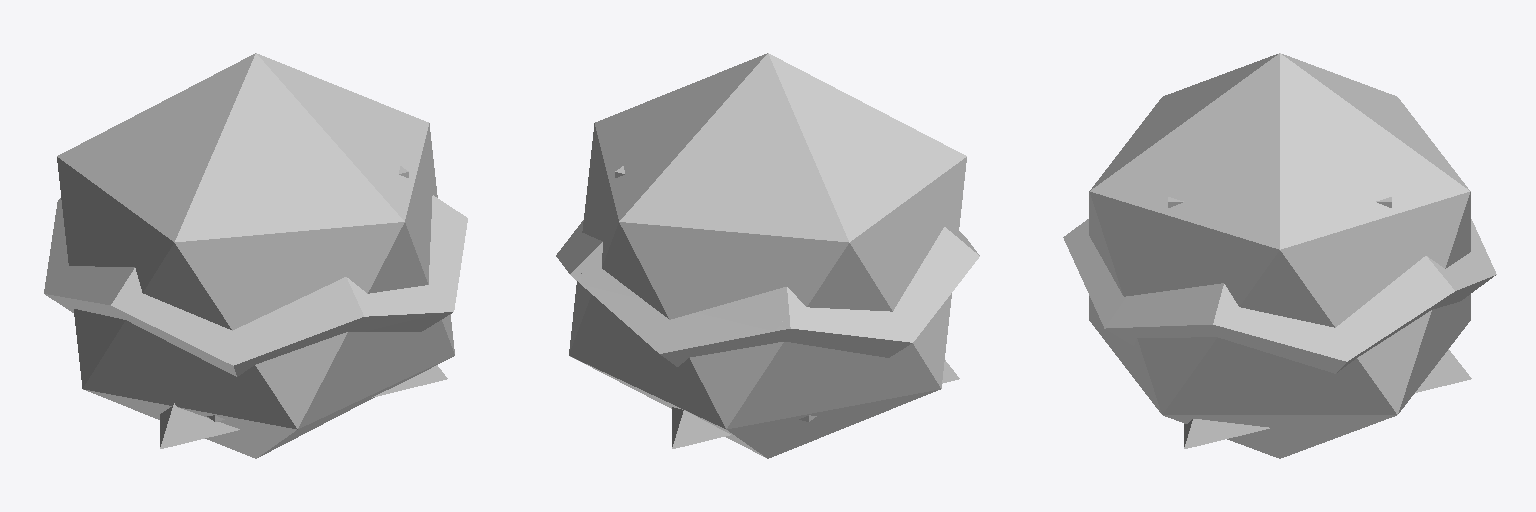
The model's file is dices.obj.
The picture shows the model from 3 angles: view 1: azimuth 30°, elevation 25°; view 2: azimuth 150°, elevation 25°; view 3: azimuth 270°, elevation 25°; orthographic projection.
Visible parts, largest first — view 1: D20, D20_collider, D10_collider, D10, D4_collider, D4; view 2: D20, D20_collider, D10_collider, D10, D4_collider, D4; view 3: D20, D20_collider, D10_collider, D10, D4, D4_collider.
Boxes of the visible parts, x1,y1,x2,y2 form: D20: [59, 59, 452, 454]; D20_collider: [57, 53, 454, 458]; D10_collider: [44, 198, 467, 376]; D10: [46, 195, 465, 376]; D4_collider: [160, 365, 447, 448]; D4: [160, 367, 433, 440]; D20: [571, 59, 964, 454]; D20_collider: [569, 53, 966, 458]; D10_collider: [556, 220, 979, 366]; D10: [558, 222, 969, 346]; D4_collider: [672, 363, 959, 448]; D4: [674, 360, 946, 438]; D20: [1089, 66, 1470, 418]; D20_collider: [1089, 53, 1470, 458]; D10_collider: [1063, 219, 1496, 373]; D10: [1118, 256, 1460, 372]; D4: [1185, 349, 1458, 444]; D4_collider: [1184, 363, 1471, 448].
Size of the model in its own units: 1.84 by 2 by 1.94.